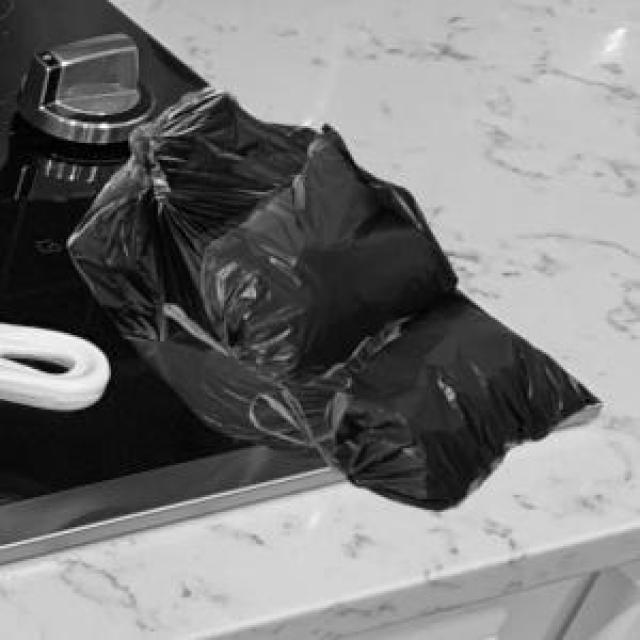miscellaneous trash: (160, 122, 591, 506), (64, 83, 433, 459)
